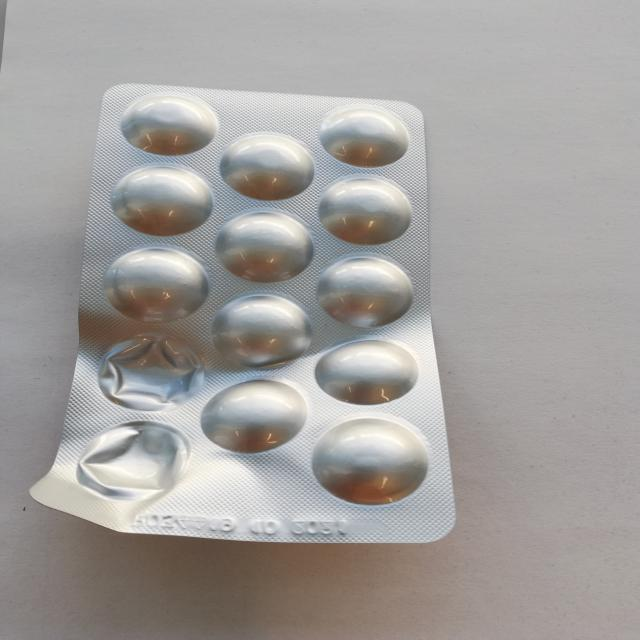Empty: (75, 419, 192, 503), (98, 332, 202, 416)
Pill: (312, 416, 431, 508), (101, 243, 208, 324), (203, 379, 311, 456), (212, 291, 314, 372), (110, 163, 215, 237), (216, 206, 314, 285), (318, 251, 414, 330), (316, 336, 422, 406), (118, 87, 221, 158), (220, 130, 318, 202), (318, 176, 412, 246), (318, 103, 416, 170)
